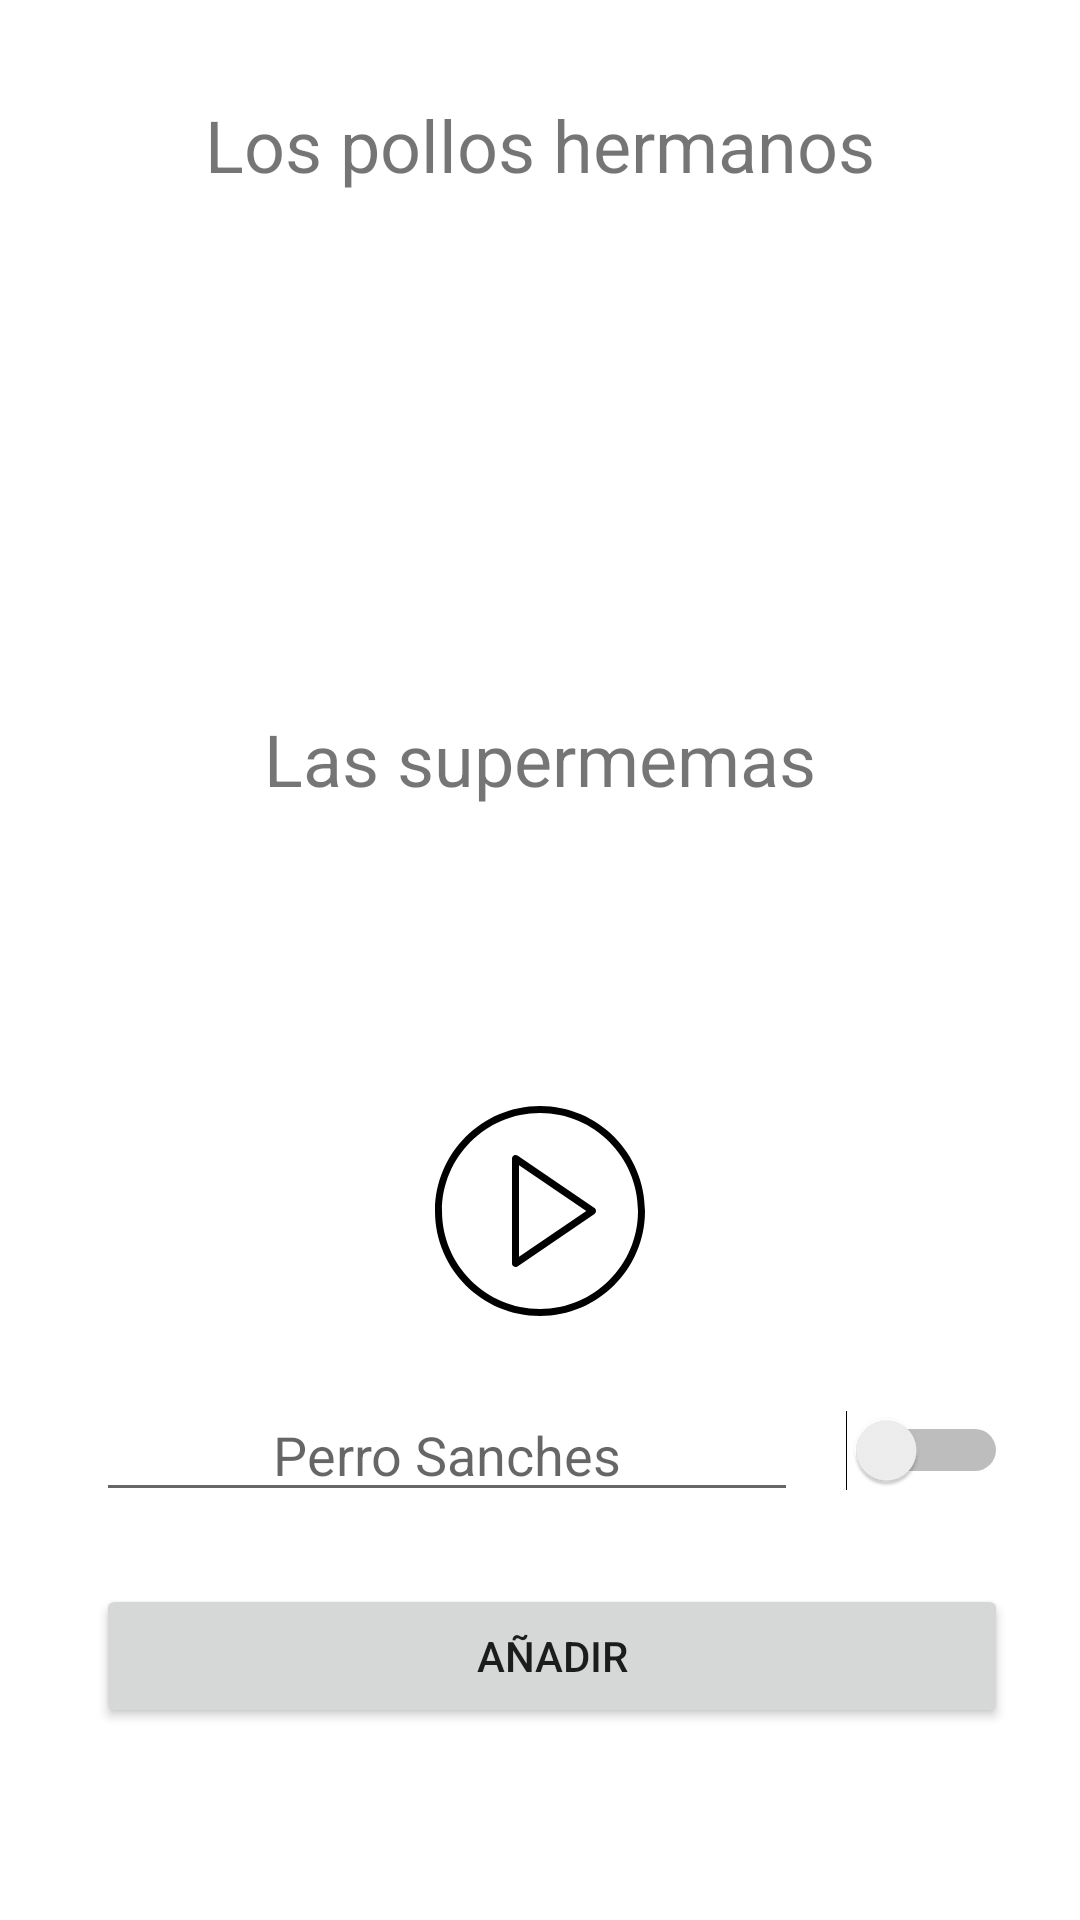

Named icons in this screenshot (1080w x 1920h) and their bounding boxes, rect(x1, y1, x2, y2):
play: rect(435, 1106, 645, 1316)
